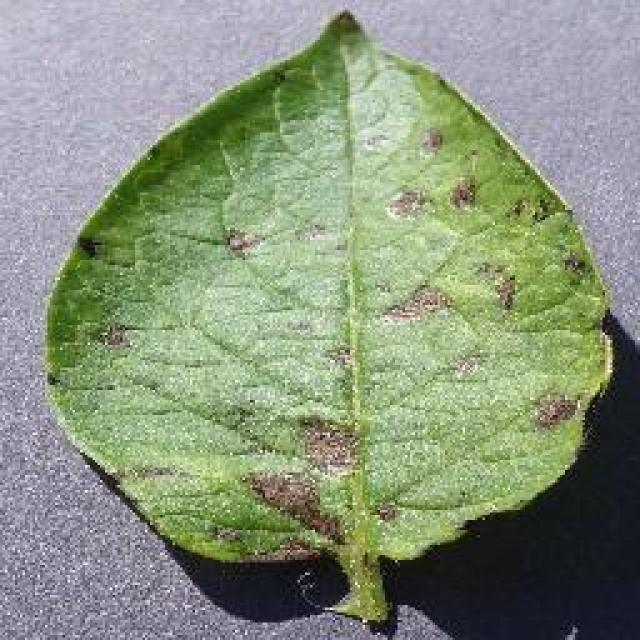early_blight: (38, 8, 618, 628)
